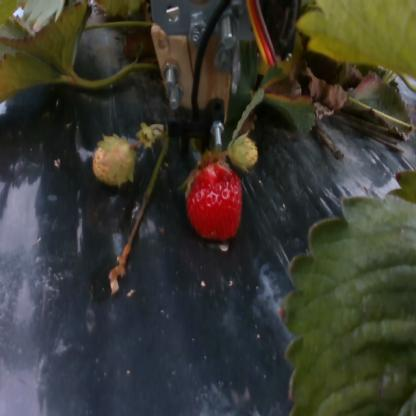ripe: (189, 152, 241, 240)
unripe: (88, 134, 138, 186), (227, 132, 261, 170)
